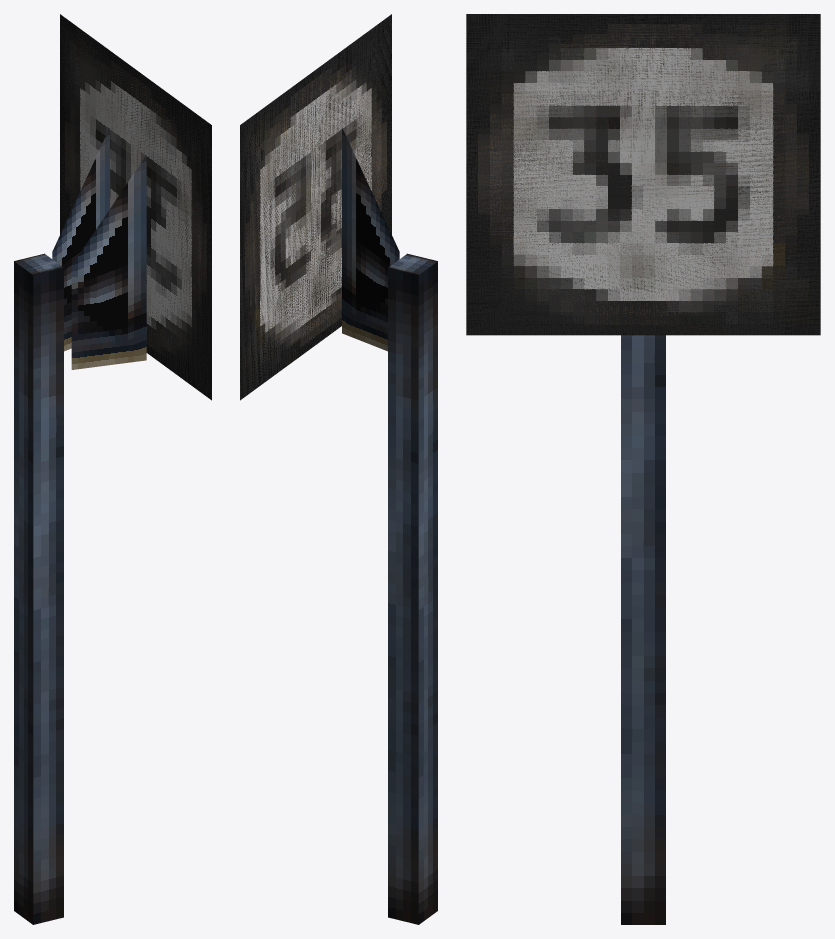
The picture shows the model from 3 angles, left to right: view 1: azimuth 30°, elevation 25°; view 2: azimuth 150°, elevation 25°; view 3: azimuth 270°, elevation 25°; orthographic projection. The views are drawn at different scales.
Parts seen in each view (by area): view 1: prim053-roadsign; view 2: prim053-roadsign; view 3: prim053-roadsign.
Part boxes in pixels (<box>): prim053-roadsign: <box>14,14,211,924</box>; prim053-roadsign: <box>240,14,437,924</box>; prim053-roadsign: <box>466,14,820,924</box>.
Size of the model in its own units: 44 by 307 by 103.
4 materials, 4 textured.
